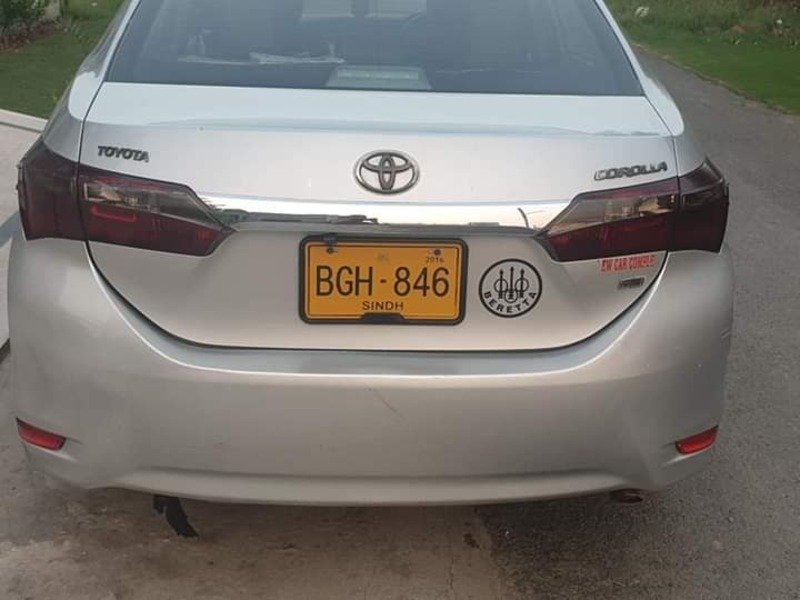License Plate: (298, 231, 470, 328)
